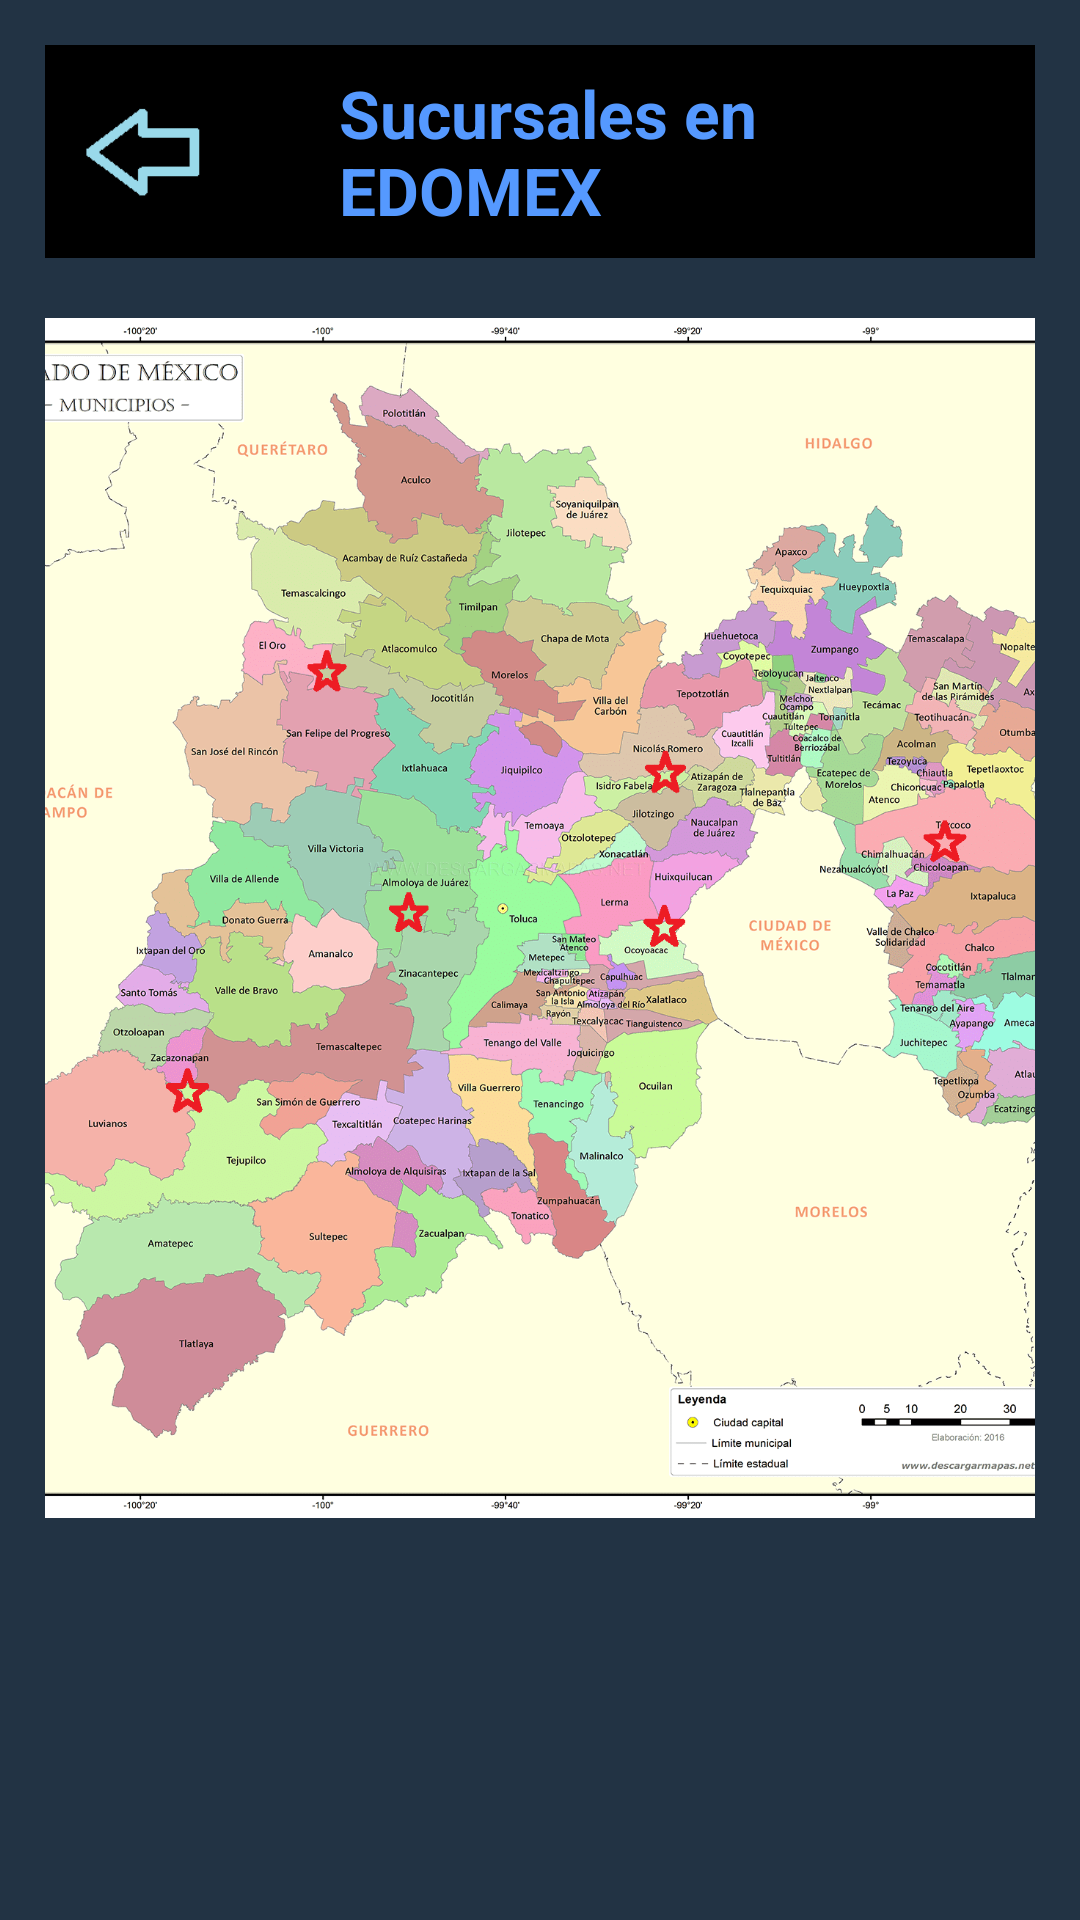

Icons on this 1080px×1920px Android screen, each with its box as (x1, y1, x2, y2):
back: (86, 109, 200, 196)
